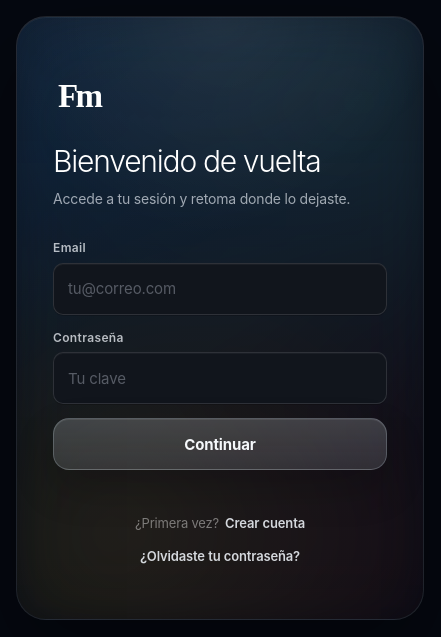
Test: LoginPage › disables button while loading
Type "test@example.com" into the field with placeholder "tu@correo.com" at (220, 289), box [53,263,387,315]
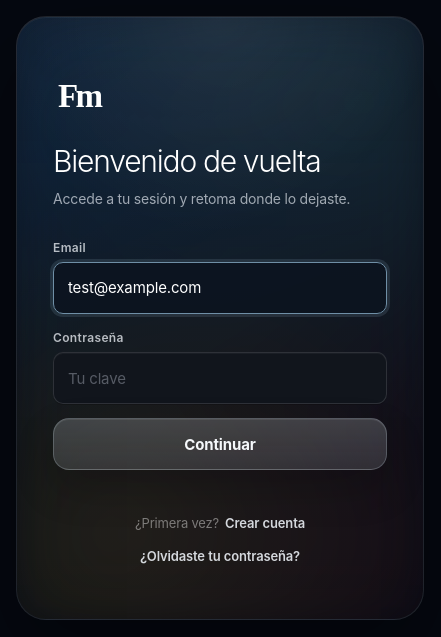
Type "Password123" into the password field with placeholder "Tu clave" at (220, 378), box [53,352,387,404]
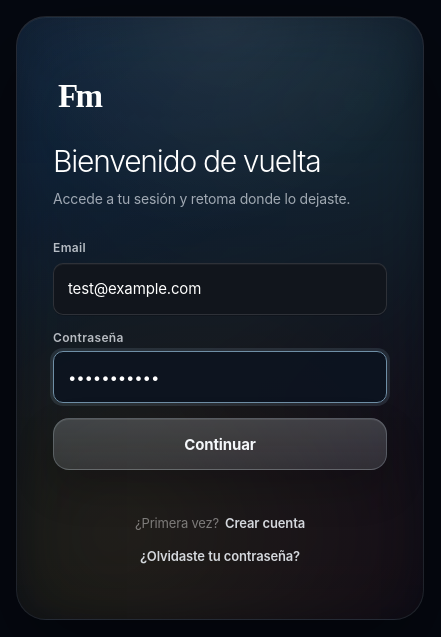
Click the button "Continuar" at (220, 444), box [53,418,387,470]
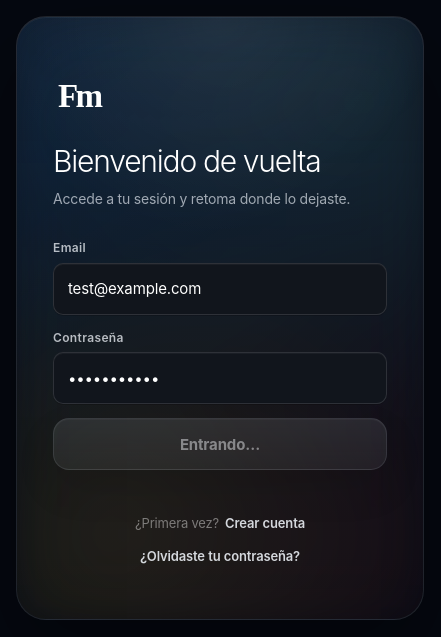
Result: the button named "Continuar" is disabled at [53,418,387,470]
